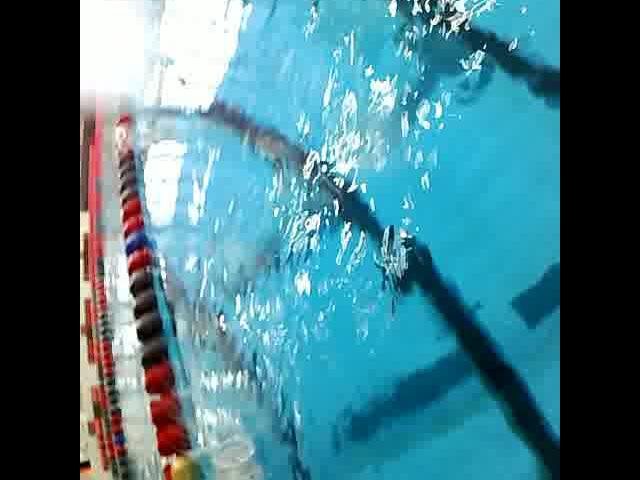Bottle: (204, 430, 273, 480)
Can: (152, 449, 216, 480)
